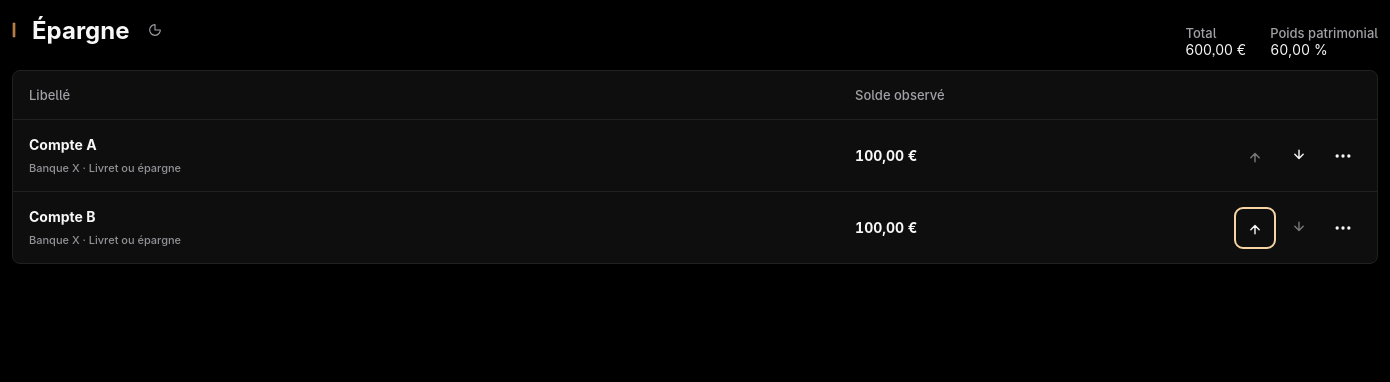
AccountOverview › gives the focus back to the control used once a move is refused
The width and height of the screenshot is (1390, 382).
Click the button named "Monter le compte Compte B".
click(1255, 228)  # box [1237,210,1273,246]
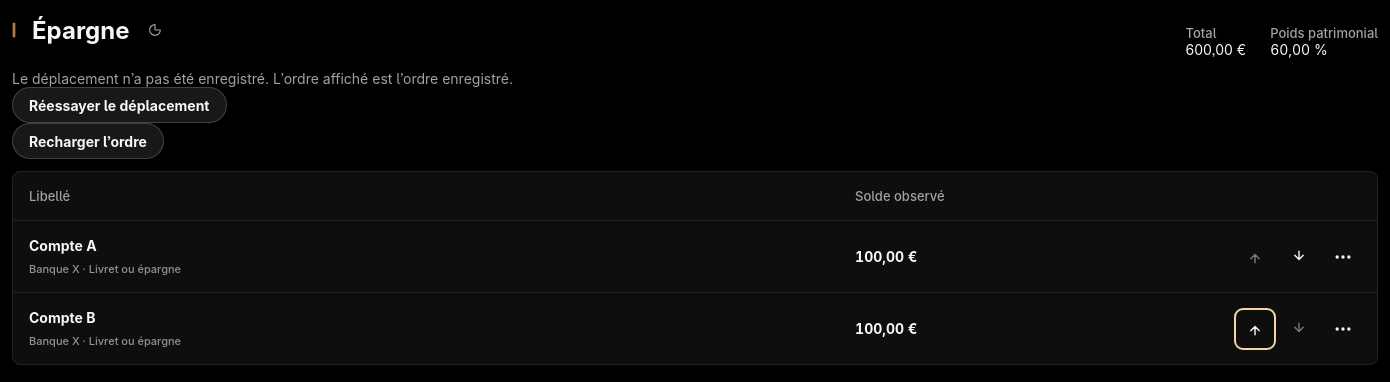
expect the message is shown: met, box [12,70,513,159]
